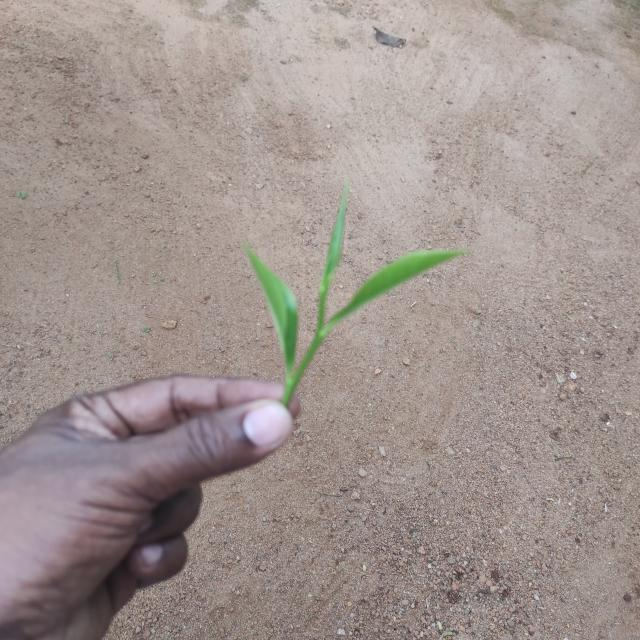unopened_leaf: (306, 172, 359, 310)
